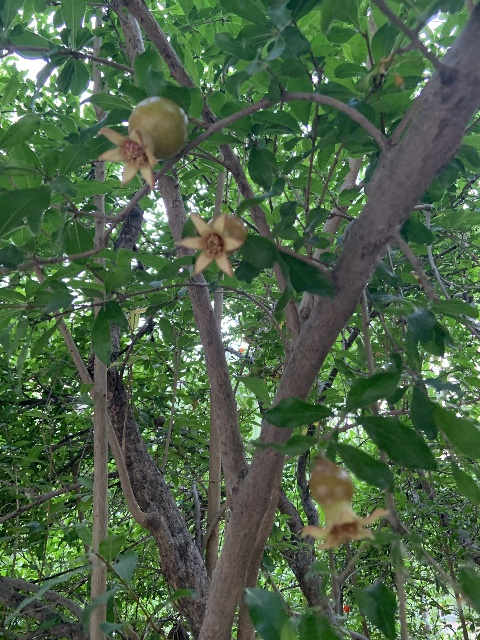early-fruit: (299, 456, 387, 549), (177, 211, 247, 278)
flower: (343, 604, 350, 612)
mid-growth: (96, 96, 188, 189)
